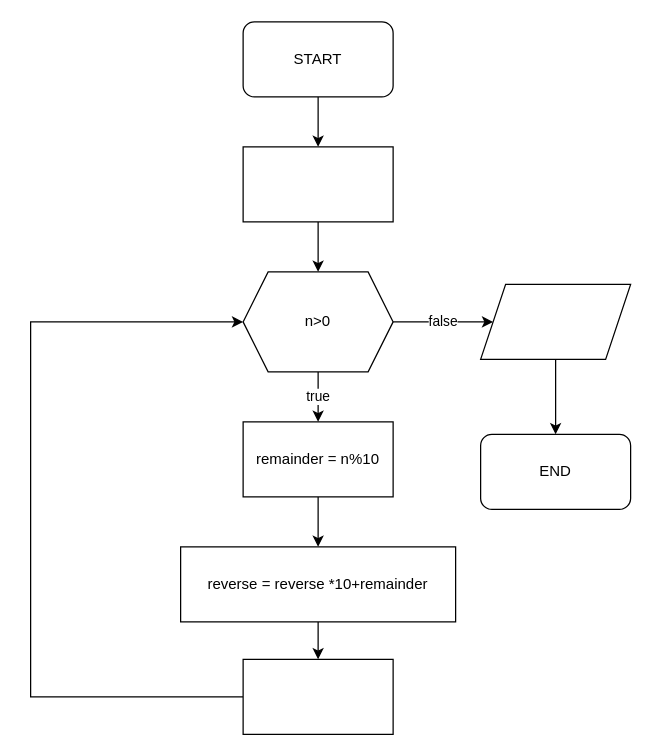
This 653x756 diagram has some shape labels left out. The centre of each missing label's shape, as x and y in pixels:
"n reverse=0" goes at point (317, 184).
"n=n/10" goes at point (317, 696).
"print(reserve)" goes at point (555, 321).
